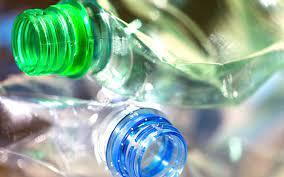plastic: (30, 2, 282, 107)
